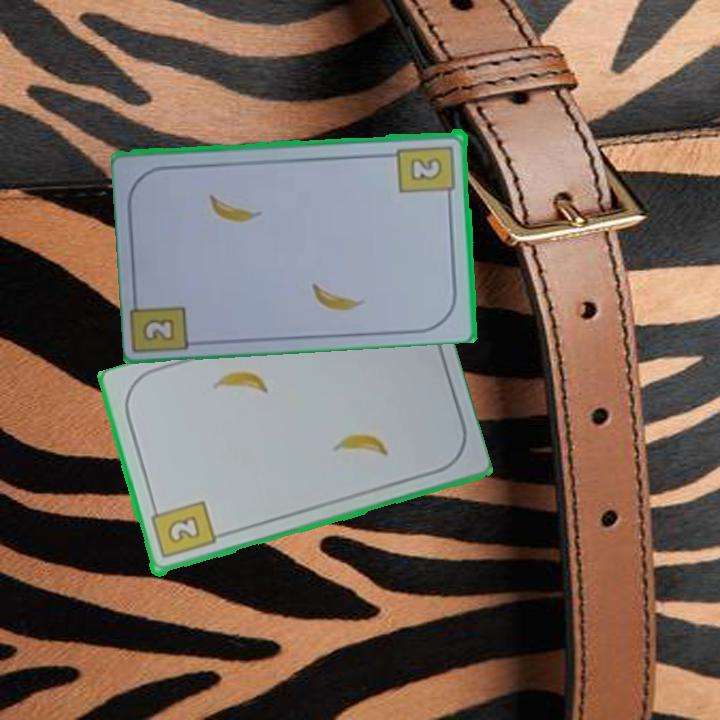2b: (147, 498, 218, 562), (395, 141, 458, 203), (138, 314, 179, 344)
